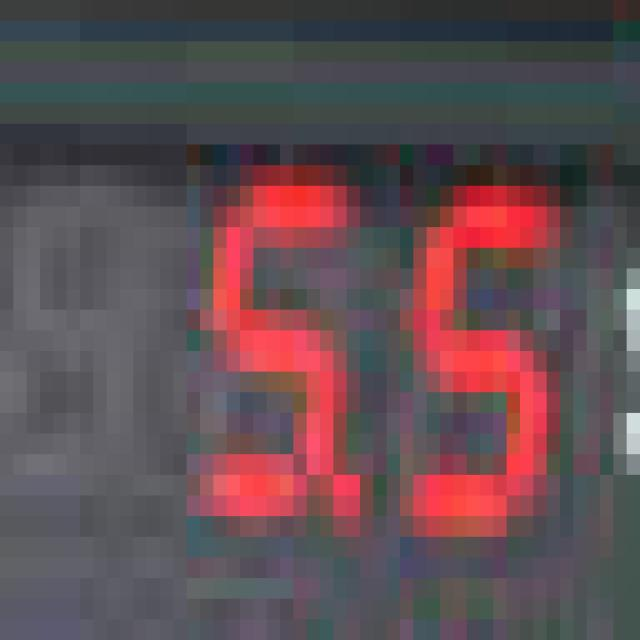5: (186, 142, 383, 538), (412, 145, 582, 540)
screen: (1, 115, 639, 640)
